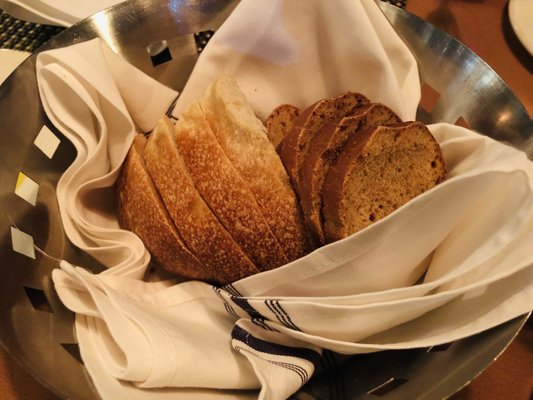sushi: (218, 124, 533, 378)
